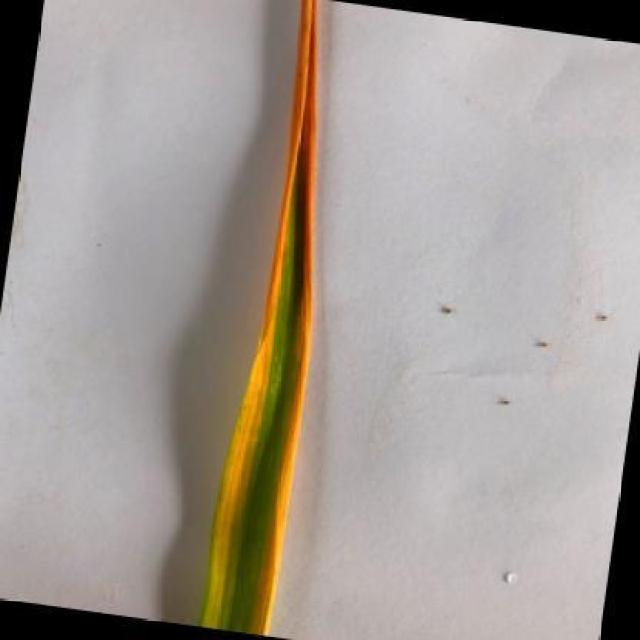Rice False Smut: (197, 0, 360, 637)
